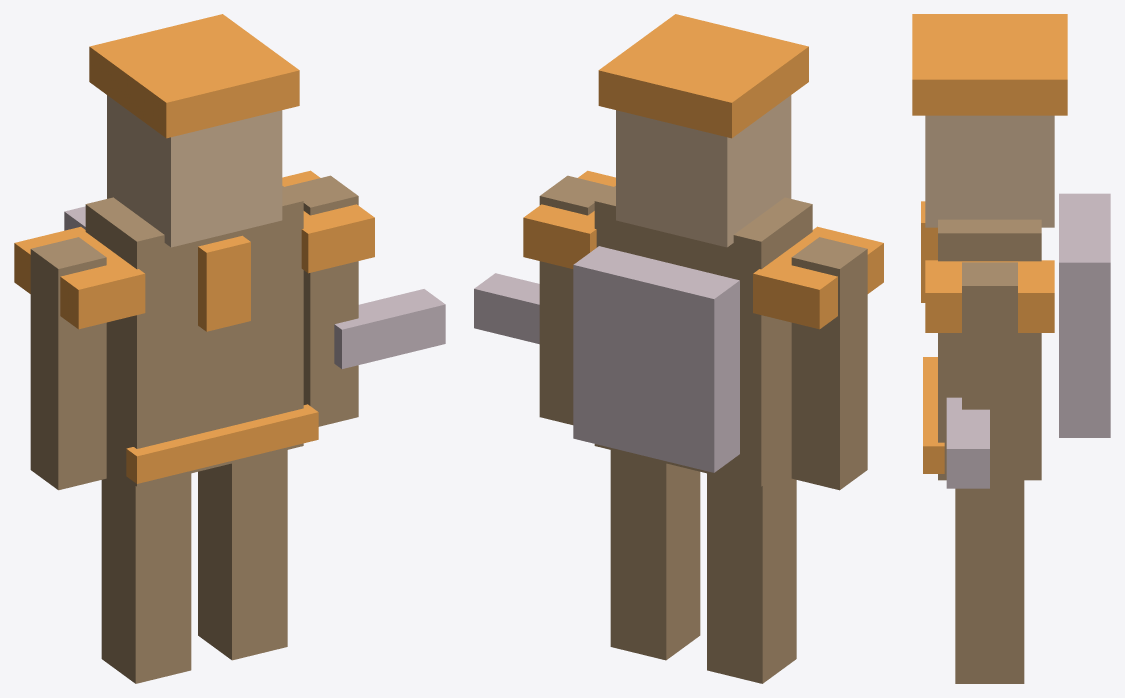
The model's file is 12_calder_echohand_tamer_of_magnet.glb.
The picture shows the model from 3 angles, left to right: view 1: azimuth 30°, elevation 25°; view 2: azimuth 150°, elevation 25°; view 3: azimuth 270°, elevation 25°; orthographic projection.
Parts seen in each view (by area): view 1: Calder Echohand, Tamer of Magnet; view 2: Calder Echohand, Tamer of Magnet; view 3: Calder Echohand, Tamer of Magnet.
Part boxes in pixels (bbox=[...]): Calder Echohand, Tamer of Magnet: bbox=[14, 14, 445, 683]; Calder Echohand, Tamer of Magnet: bbox=[474, 14, 883, 683]; Calder Echohand, Tamer of Magnet: bbox=[912, 14, 1110, 683].
Size of the model in its own units: 1.11 by 1.66 by 0.498.
